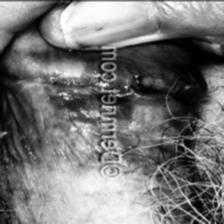Toxin: (119, 52, 201, 138), (41, 56, 100, 128)
